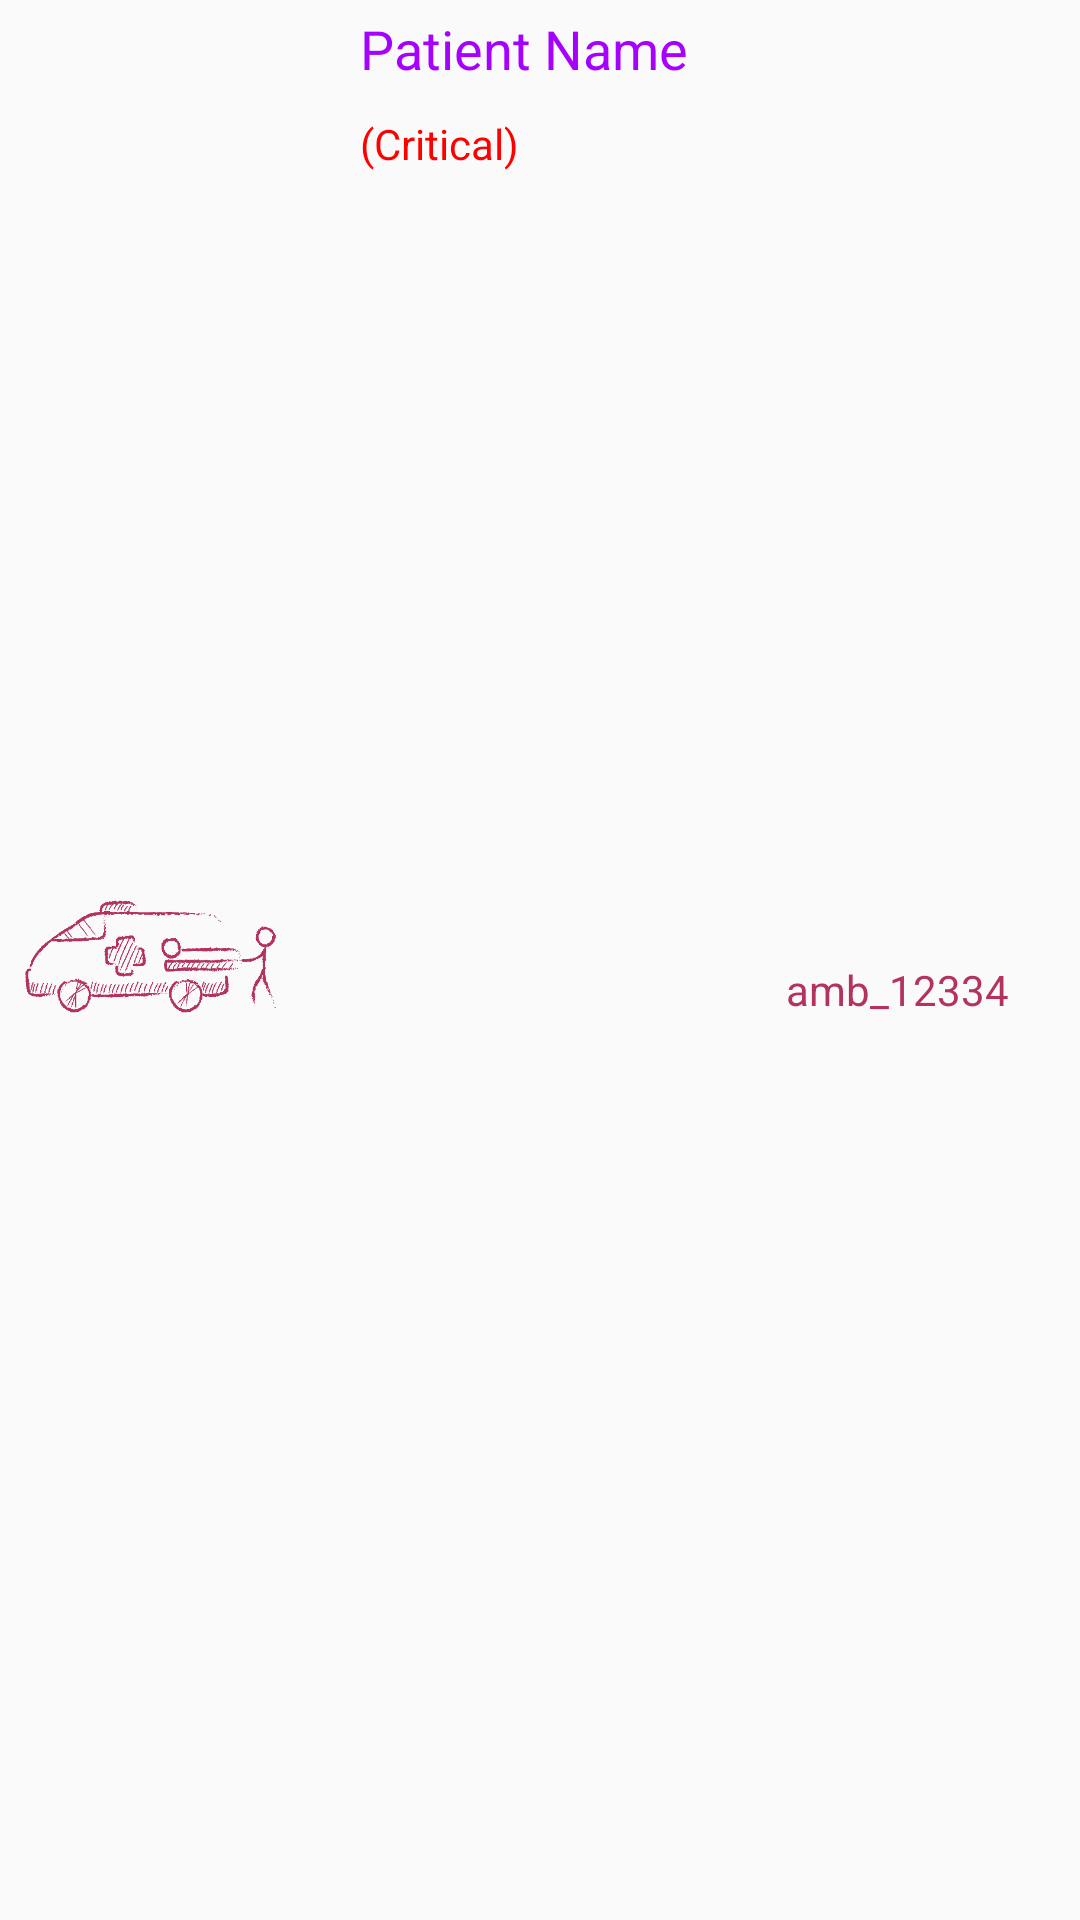

Named icons in this screenshot (1080 × 1920) and their bounding boxes, (x1, y1, x2, y2):
patient: (25, 900, 277, 1013)
